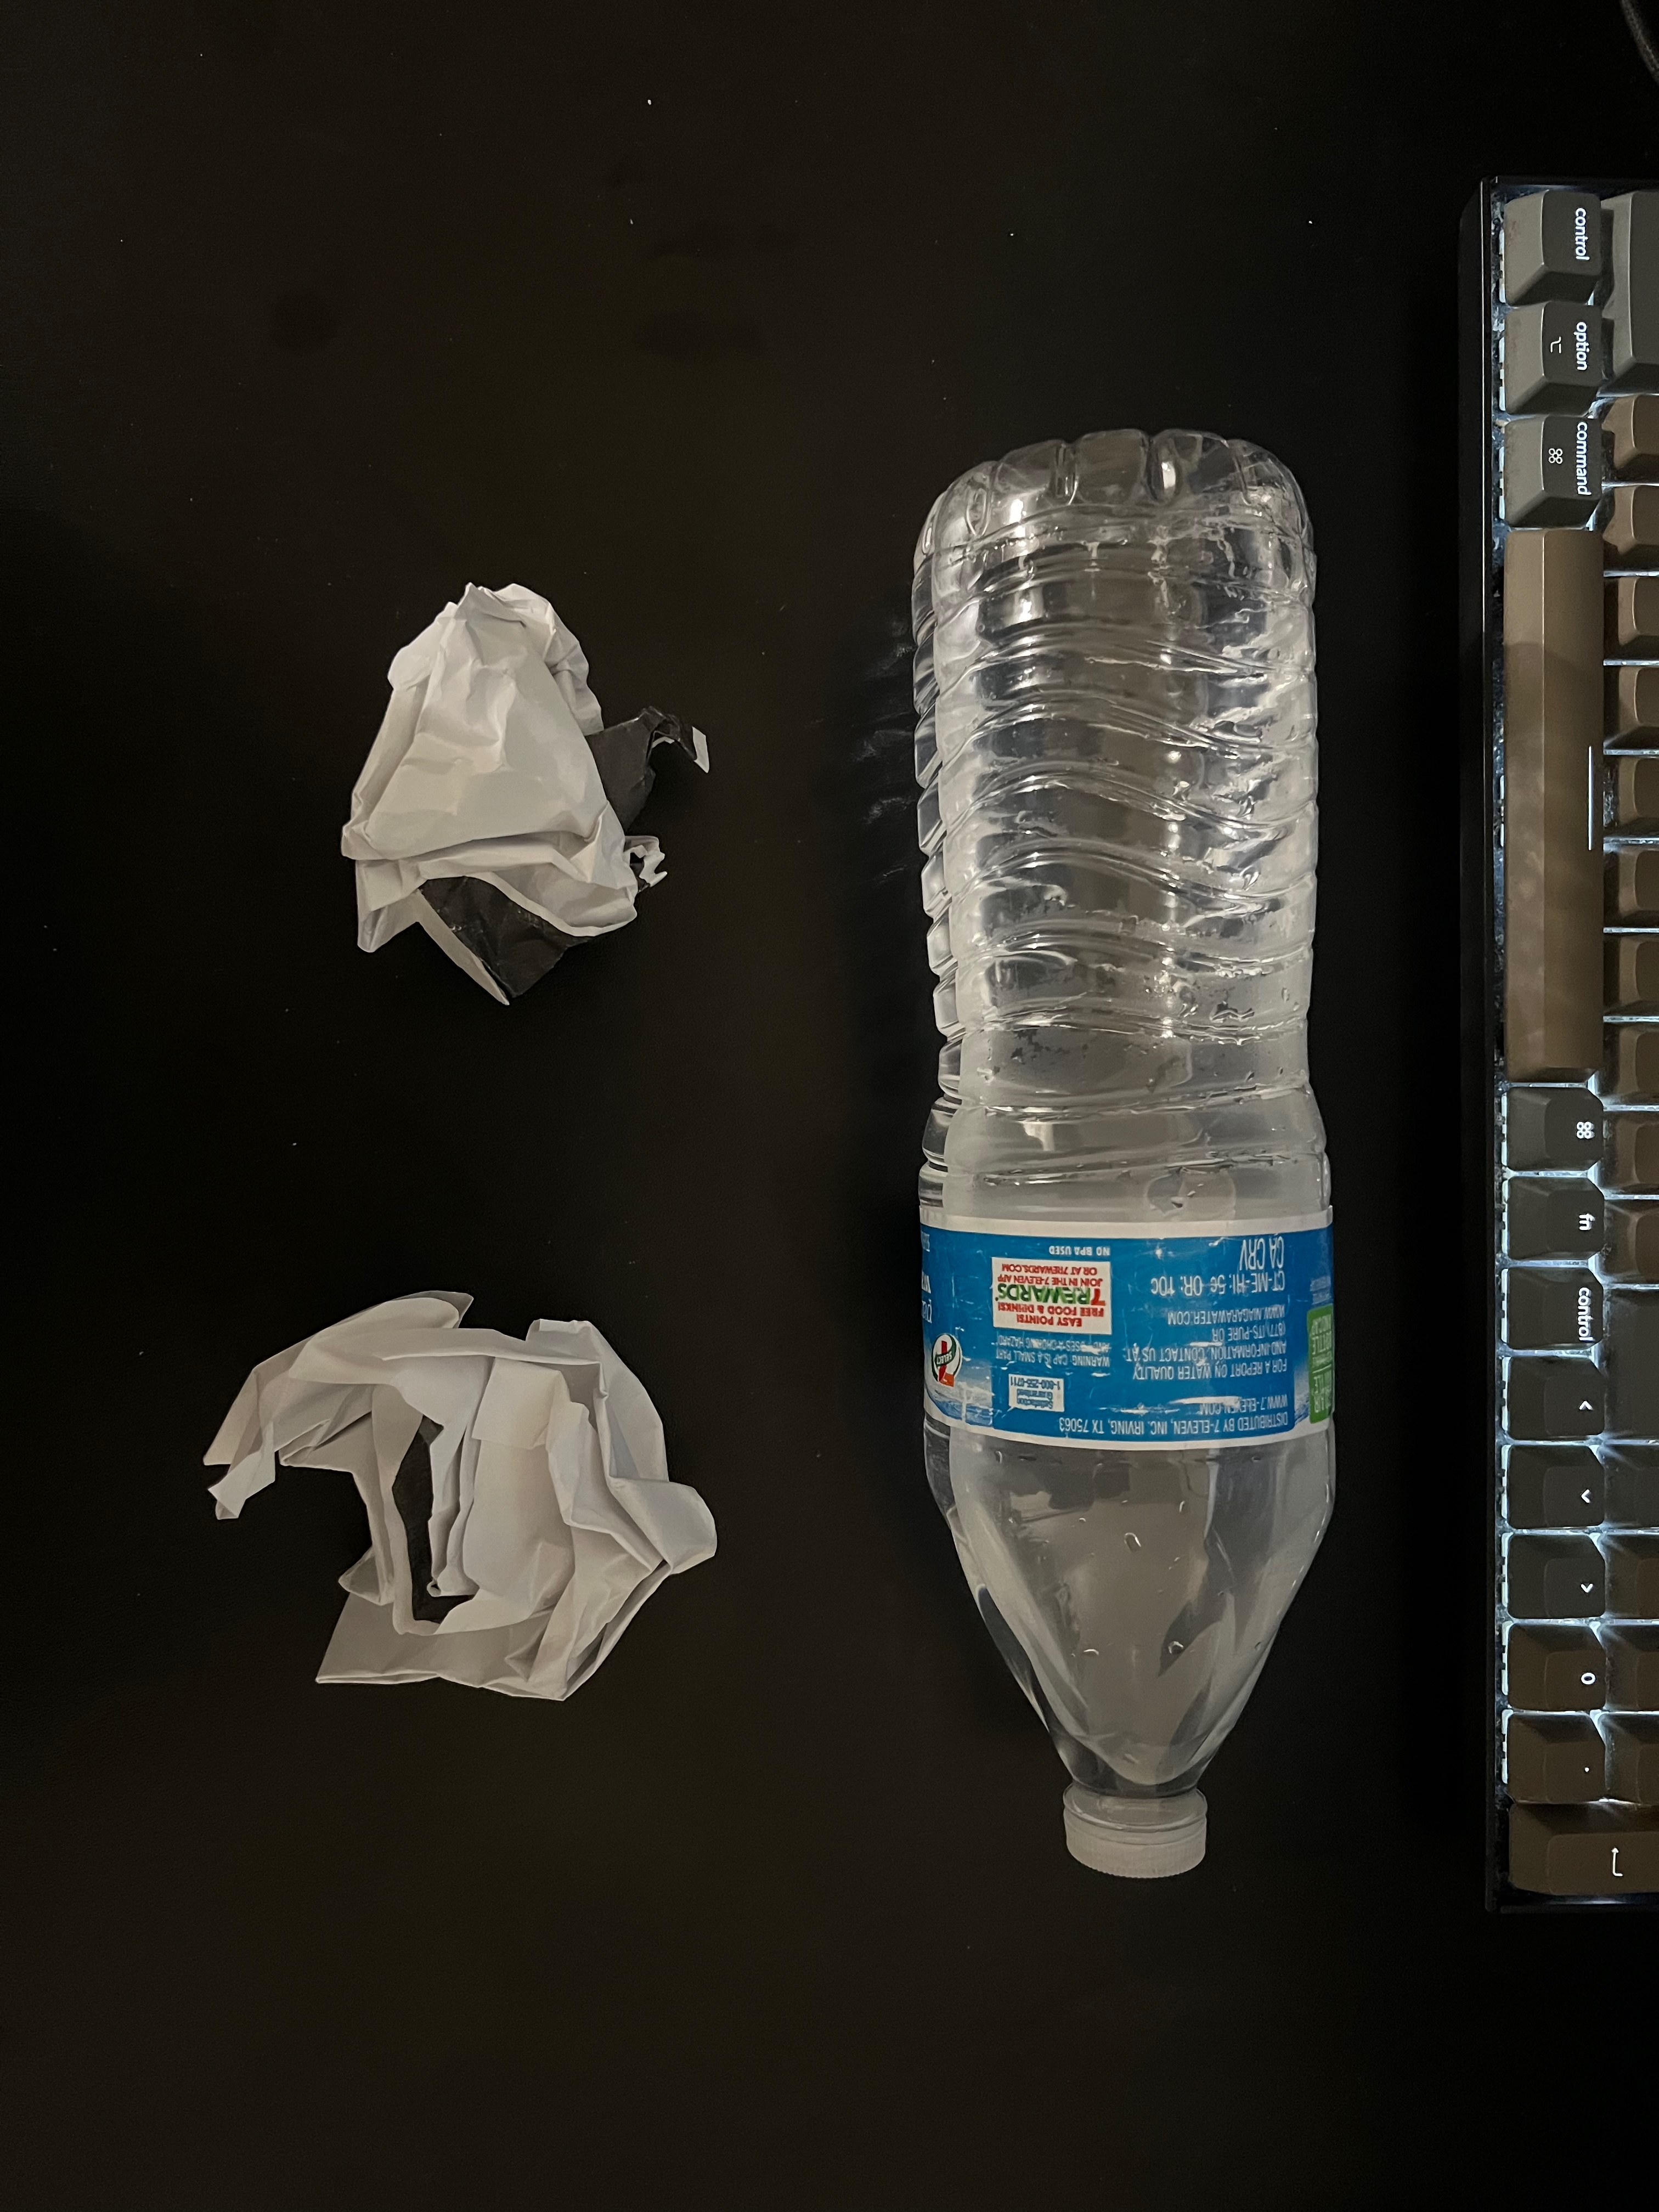trash bottle: (880, 411, 1359, 1909)
trash paper: (192, 1256, 763, 1737), (314, 557, 749, 1021)
